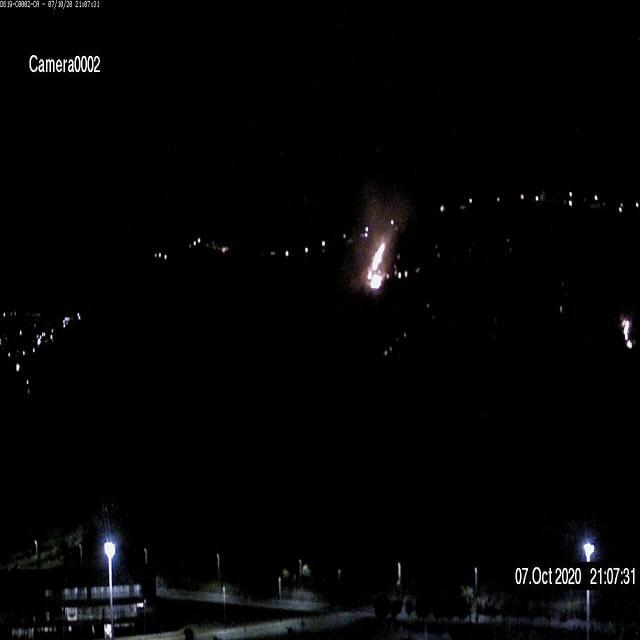Fire: (364, 237, 390, 290), (619, 312, 632, 348)
Smoke: (356, 190, 407, 252)
